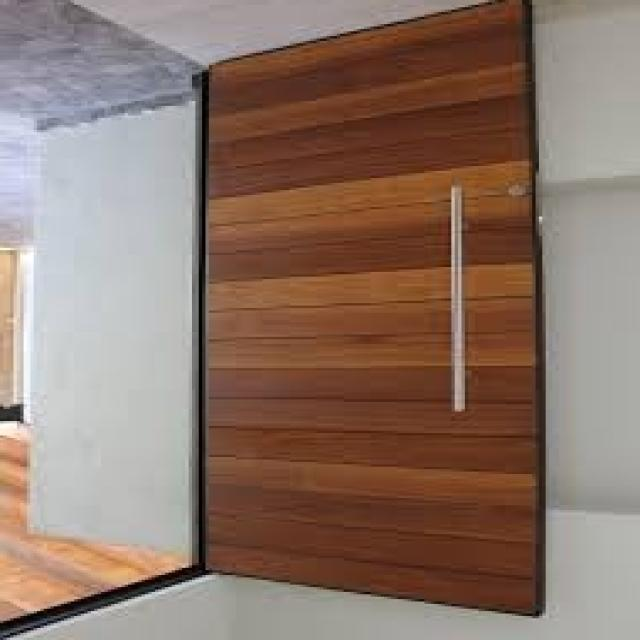door: (198, 1, 546, 620)
